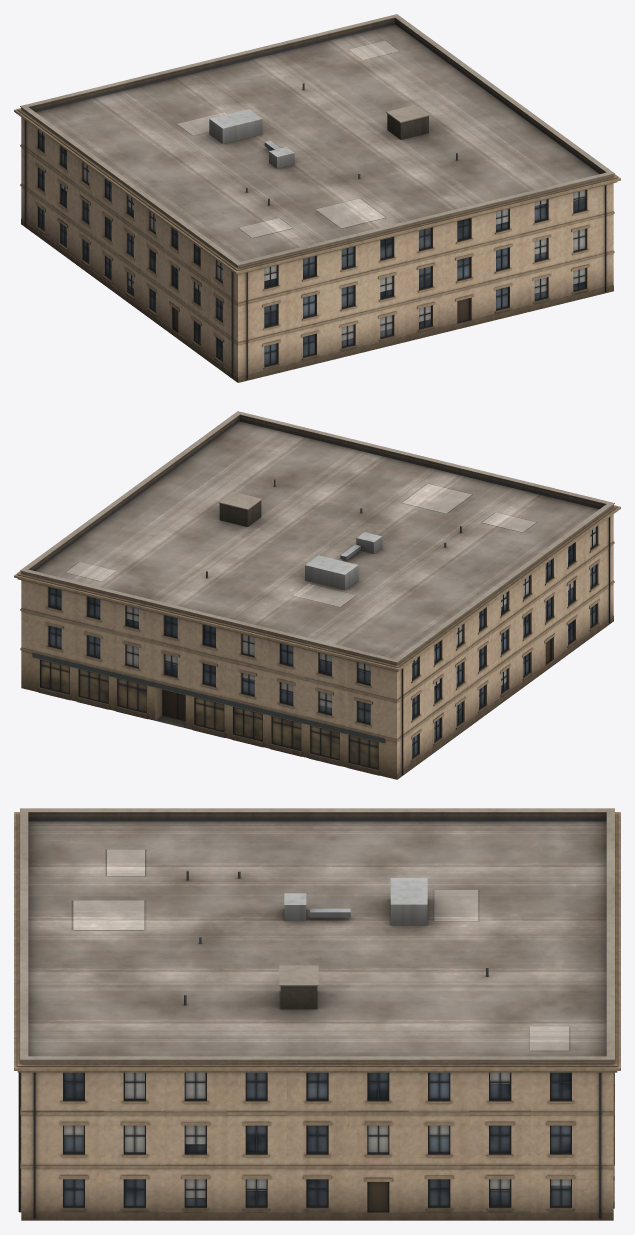
3 views of the same model, one above another, from view 1: azimuth 30°, elevation 25°; view 2: azimuth 150°, elevation 25°; view 3: azimuth 270°, elevation 25° (orthographic). The views are drawn at different scales.
Visible parts, largest first — view 1: building; view 2: building; view 3: building.
Boxes of the visible parts, x1,y1,x2,y2 form: building: (14,14,620,382); building: (14,411,620,779); building: (14,808,620,1220).
Size of the model in its own units: 32.8 by 10.48 by 32.8.
1 material, 1 textured.
